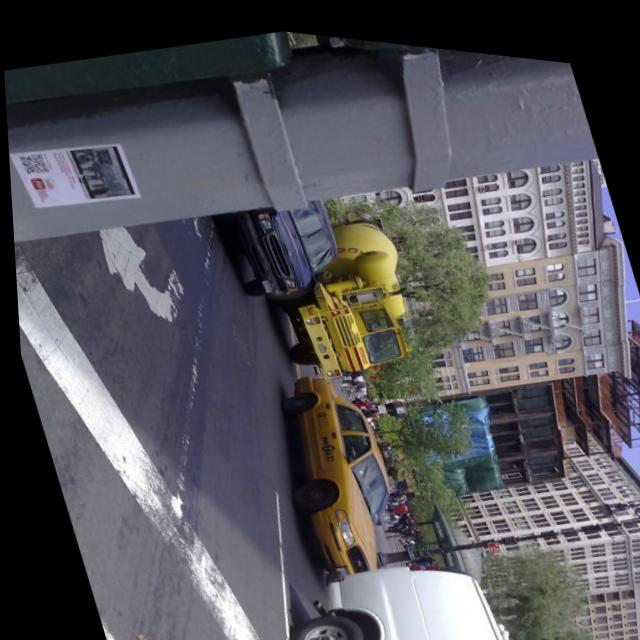qrcode: (16, 151, 47, 177)
